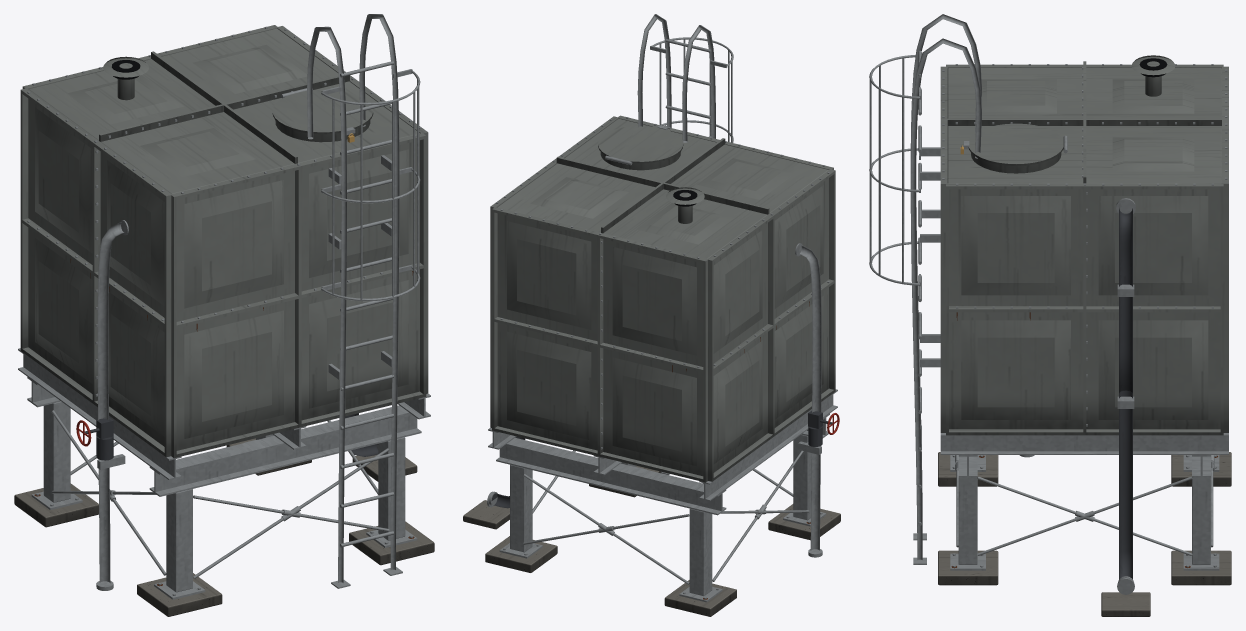
The model's file is water_tank.glb.
3 views of the same model, side by side, from view 1: azimuth 30°, elevation 25°; view 2: azimuth 150°, elevation 25°; view 3: azimuth 270°, elevation 25° (orthographic). The views are drawn at different scales.
Parts seen in each view (by area): view 1: tank_powder_coat_grey_1, tank_powder_coat_grey_0, stand_steel_galvanised_4, tank_powder_coat_grey_2, ladder_steel_galvanised_0, tank_powder_coat_grey_wet_5, inlet_steel_galvanised_0, tank_powder_coat_grey_wet_6, manhole_lid_powder_coat_grey_wet_0, stand_concrete_weathered_1, stand_concrete_weathered_0, stand_concrete_weathered_3 (+4 smaller); view 2: tank_powder_coat_grey_1, tank_powder_coat_grey_0, stand_steel_galvanised_4, tank_powder_coat_grey_2, tank_powder_coat_grey_wet_5, ladder_steel_galvanised_0, inlet_steel_galvanised_0, manhole_lid_powder_coat_grey_wet_0, tank_powder_coat_grey_wet_6, stand_concrete_weathered_0, stand_concrete_weathered_2, stand_concrete_weathered_1 (+4 smaller); view 3: tank_powder_coat_grey_1, tank_powder_coat_grey_0, tank_powder_coat_grey_2, stand_steel_galvanised_4, ladder_steel_galvanised_0, tank_powder_coat_grey_wet_5, overflow_powder_coat_graphite_0, manhole_lid_powder_coat_grey_wet_0, tank_powder_coat_grey_wet_6, stand_concrete_weathered_2, stand_concrete_weathered_3, overflow_concrete_weathered_3 (+6 smaller).
Boxes of the visible parts, x1,y1,x2,y2 form: tank_powder_coat_grey_1: (35, 107, 408, 438); tank_powder_coat_grey_0: (28, 28, 419, 450); stand_steel_galvanised_4: (18, 348, 430, 599); tank_powder_coat_grey_2: (20, 25, 428, 458); ladder_steel_galvanised_0: (307, 14, 420, 588); tank_powder_coat_grey_wet_5: (68, 44, 307, 177); inlet_steel_galvanised_0: (97, 222, 124, 583); tank_powder_coat_grey_wet_6: (99, 51, 349, 163); manhole_lid_powder_coat_grey_wet_0: (272, 89, 373, 134); stand_concrete_weathered_1: (137, 573, 222, 616); stand_concrete_weathered_0: (14, 483, 98, 527); stand_concrete_weathered_3: (349, 521, 434, 565); tank_powder_coat_grey_1: (507, 185, 823, 466); tank_powder_coat_grey_0: (497, 118, 828, 476); stand_steel_galvanised_4: (488, 389, 837, 602); tank_powder_coat_grey_2: (490, 115, 835, 482); tank_powder_coat_grey_wet_5: (530, 158, 795, 244); ladder_steel_galvanised_0: (637, 14, 733, 483); inlet_steel_galvanised_0: (799, 245, 821, 550); manhole_lid_powder_coat_grey_wet_0: (598, 126, 683, 163); tank_powder_coat_grey_wet_6: (556, 138, 769, 233); stand_concrete_weathered_0: (664, 580, 736, 616); stand_concrete_weathered_2: (485, 536, 557, 572); stand_concrete_weathered_1: (768, 504, 840, 540); tank_powder_coat_grey_1: (961, 196, 1208, 419); tank_powder_coat_grey_0: (947, 68, 1221, 429); tank_powder_coat_grey_2: (940, 64, 1228, 435); stand_steel_galvanised_4: (940, 433, 1228, 570); ladder_steel_galvanised_0: (869, 14, 981, 564); tank_powder_coat_grey_wet_5: (975, 79, 1194, 171); overflow_powder_coat_graphite_0: (1119, 208, 1132, 579); manhole_lid_powder_coat_grey_wet_0: (968, 123, 1063, 165); tank_powder_coat_grey_wet_6: (947, 61, 1221, 183); stand_concrete_weathered_2: (1171, 550, 1231, 585); stand_concrete_weathered_3: (938, 550, 998, 585); overflow_concrete_weathered_3: (1101, 592, 1150, 616).
Size of what is drawn, in the model's own units: 3 by 4.21 by 2.64.
9 materials, 8 textured.
